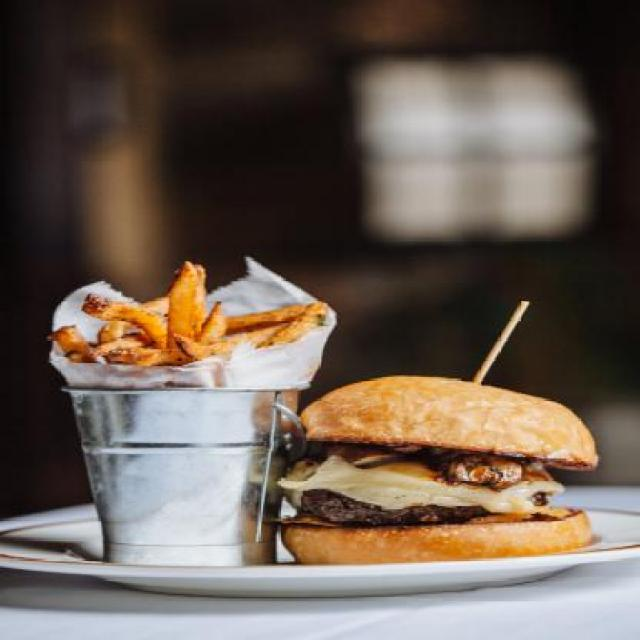hamburger: (303, 364, 611, 570)
sweet potato: (50, 256, 332, 384)
